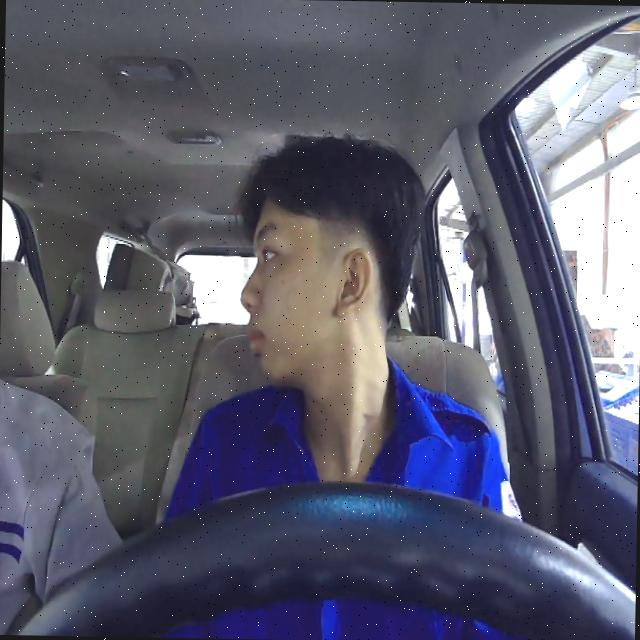seeing_left: (236, 192, 380, 382)
